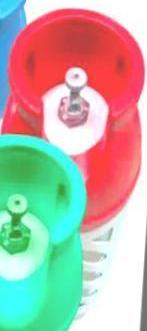cylinder: (1, 1, 147, 331)
